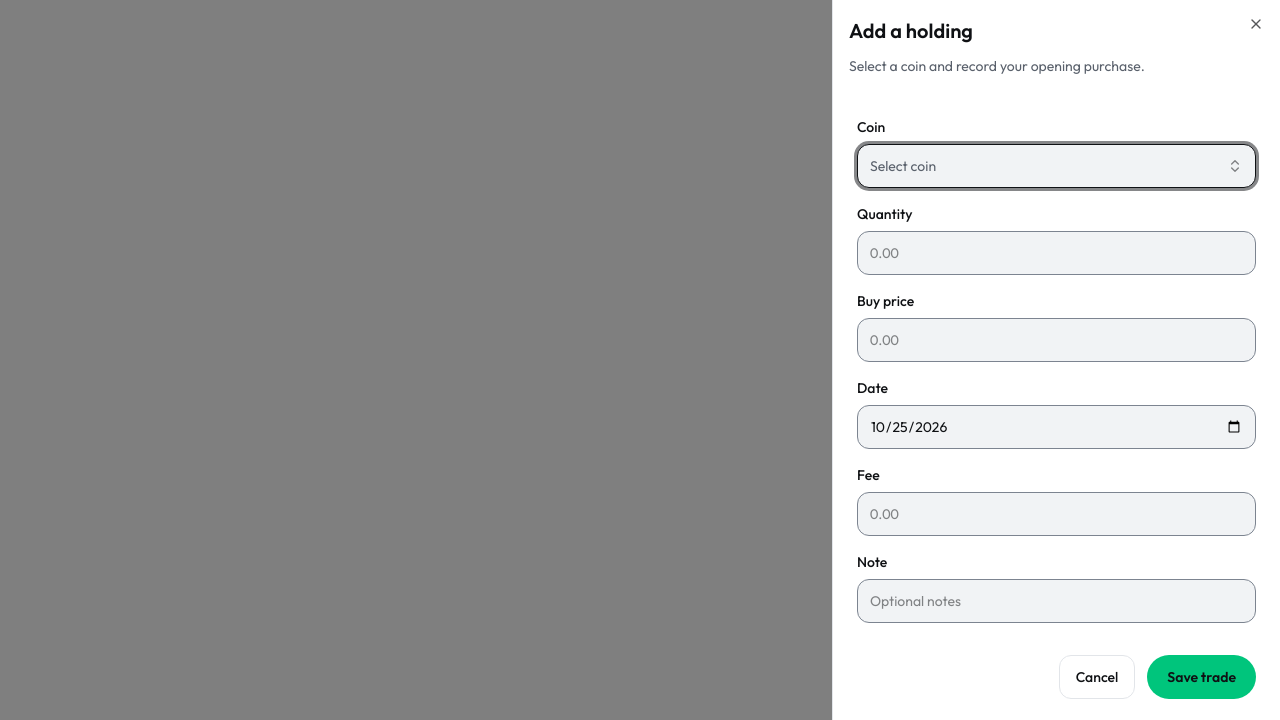
Test case: TradeSheet › validates required fields inline in add mode
Click the button "Save trade". click: (1202, 677)
box: [1147, 655, 1256, 699]
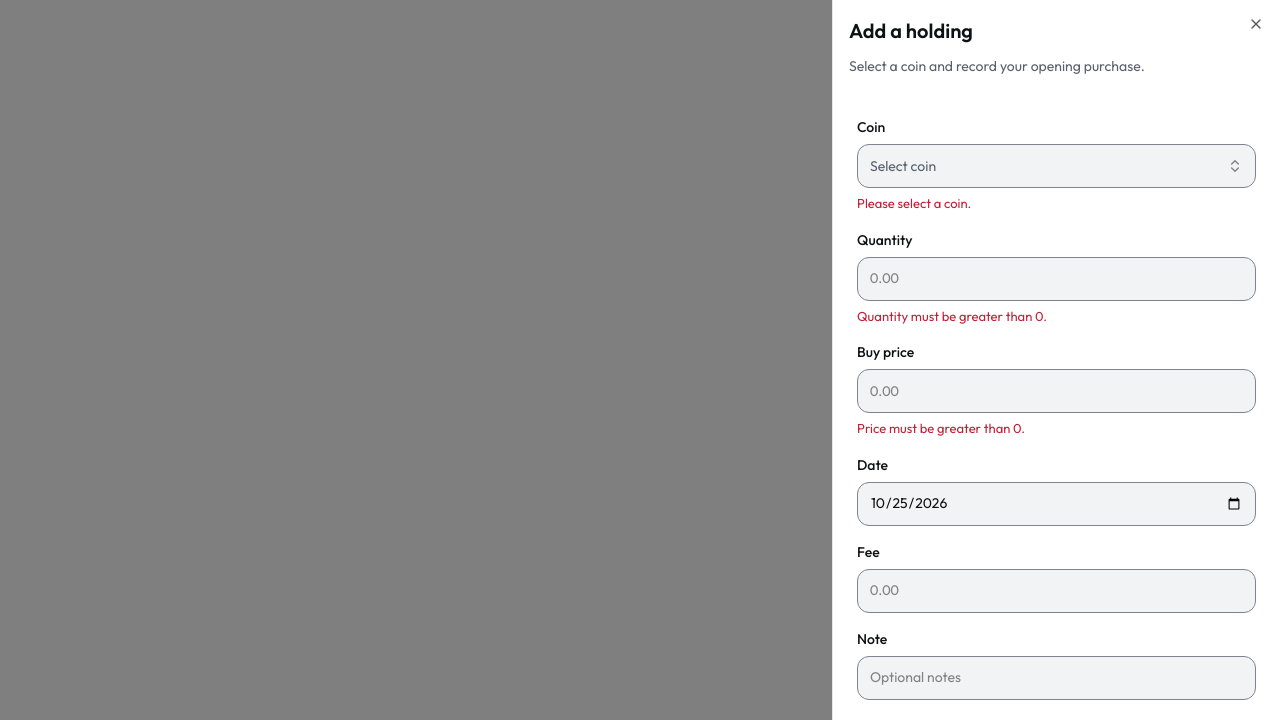
Expected: the text "Please select a coin." is shown, [857, 195, 971, 211]
Expected: the text "Quantity must be greater than 0." is shown, [857, 308, 1047, 324]
Expected: the text "Price must be greater than 0." is shown, [857, 420, 1025, 436]
